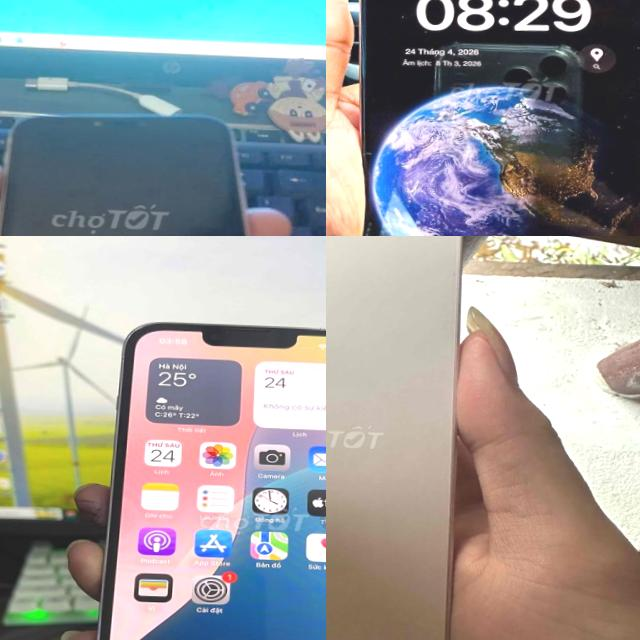gen_11: (0, 93, 314, 236)
gen_12_13: (90, 311, 326, 640), (326, 236, 466, 640)
gen_16: (359, 0, 640, 236)
